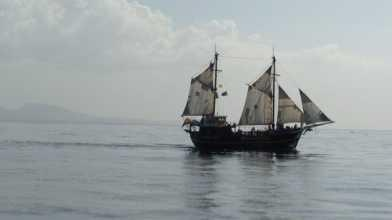fanchuan: (182, 47, 335, 153)
